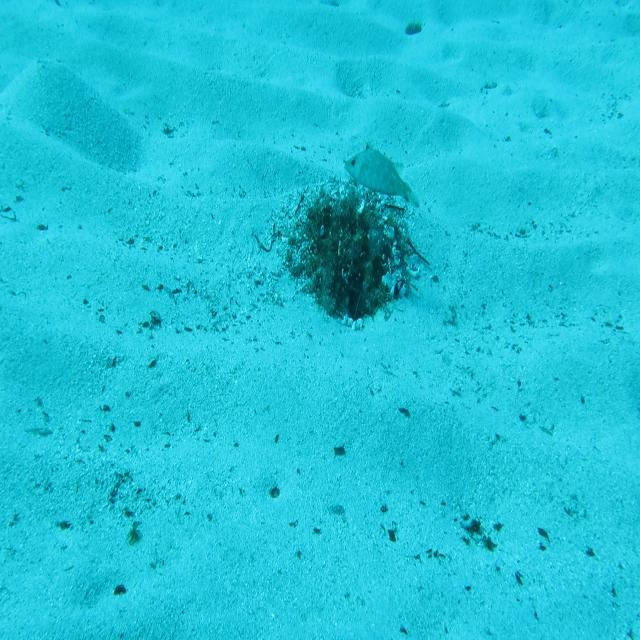UP: (342, 132, 421, 214)
nest: (284, 176, 432, 324)
